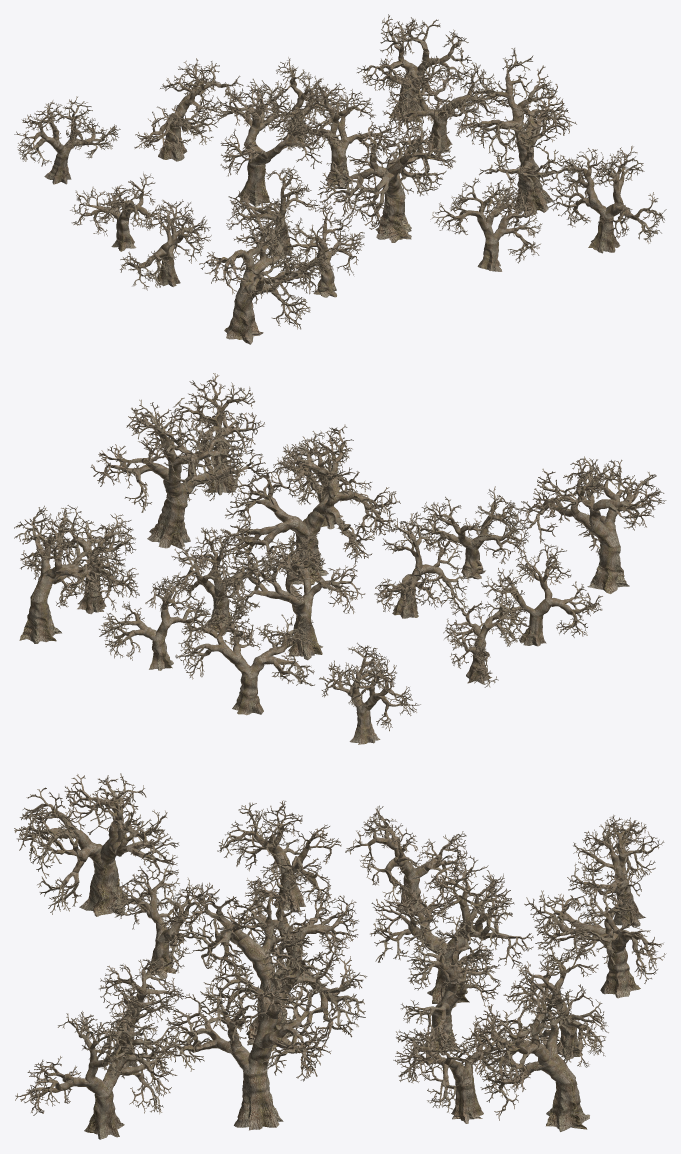
The model's file is oak_forest_tree_pack.glb.
The picture shows the model from 3 angles, top to bottom: view 1: azimuth 30°, elevation 25°; view 2: azimuth 150°, elevation 25°; view 3: azimuth 270°, elevation 25°; orthographic projection. The views are drawn at different scales.
Visible parts, largest first — view 1: Object_5, Object_4, Object_6, Object_14, Object_9, Object_12, Object_8, Object_10, Object_15, Object_2, Object_16, Object_17 (+4 smaller); view 2: Object_4, Object_5, Object_6, Object_12, Object_14, Object_10, Object_3, Object_17, Object_15, Object_7, Object_2, Object_11 (+4 smaller); view 3: Object_5, Object_6, Object_4, Object_12, Object_9, Object_14, Object_10, Object_15, Object_16, Object_17, Object_7, Object_2 (+4 smaller).
Part boxes in pixels (left/top/right/bottom): Object_5: left=454, top=48, right=581, bottom=215; Object_4: left=317, top=115, right=455, bottom=242; Object_6: left=199, top=209, right=325, bottom=344; Object_14: left=215, top=78, right=324, bottom=206; Object_9: left=547, top=145, right=666, bottom=253; Object_12: left=357, top=14, right=471, bottom=125; Object_8: left=430, top=177, right=542, bottom=271; Object_10: left=134, top=58, right=243, bottom=161; Object_15: left=276, top=81, right=398, bottom=187; Object_2: left=14, top=96, right=120, bottom=184; Object_16: left=382, top=62, right=509, bottom=155; Object_17: left=120, top=199, right=211, bottom=290; Object_4: left=211, top=424, right=400, bottom=585; Object_5: left=90, top=399, right=268, bottom=549; Object_6: left=516, top=456, right=666, bottom=593; Object_12: left=14, top=505, right=124, bottom=643; Object_14: left=228, top=528, right=365, bottom=660; Object_10: left=175, top=600, right=314, bottom=715; Object_3: left=374, top=512, right=473, bottom=618; Object_17: left=481, top=543, right=602, bottom=646; Object_15: left=169, top=527, right=277, bottom=635; Object_7: left=419, top=486, right=530, bottom=579; Object_2: left=319, top=642, right=420, bottom=744; Object_11: left=99, top=571, right=210, bottom=670; Object_5: left=157, top=948, right=338, bottom=1130; Object_6: left=14, top=773, right=179, bottom=916; Object_4: left=178, top=880, right=367, bottom=1051; Object_12: left=468, top=973, right=593, bottom=1131; Object_9: left=15, top=1011, right=184, bottom=1139; Object_14: left=370, top=855, right=533, bottom=1007; Object_10: left=524, top=884, right=666, bottom=998; Object_15: left=400, top=915, right=500, bottom=1055; Object_16: left=393, top=1015, right=508, bottom=1123; Object_17: left=217, top=800, right=341, bottom=910; Object_7: left=107, top=864, right=219, bottom=978; Object_2: left=567, top=814, right=664, bottom=928.
Size of the model in its own units: 25.92 by 7.66 by 25.28.
1 material, 1 textured.
